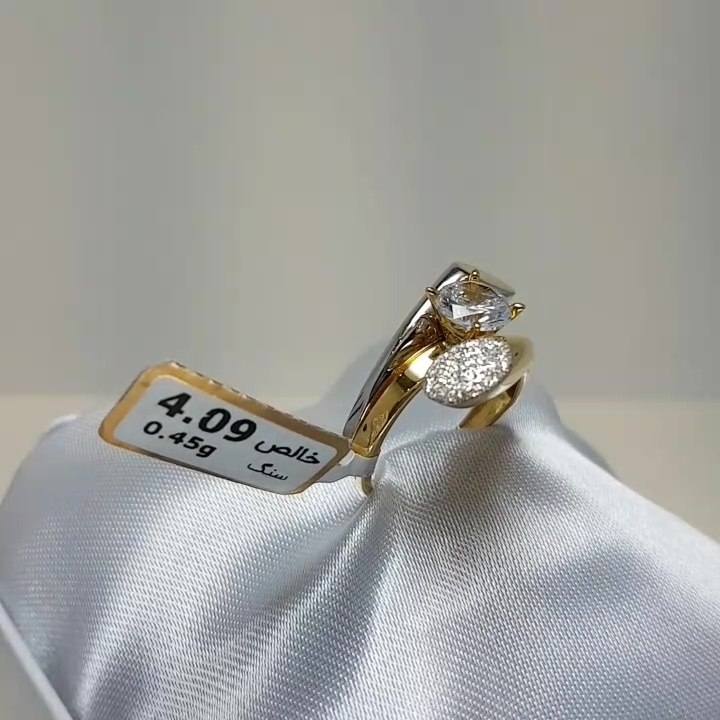Ring 7: (280, 241, 566, 533)
